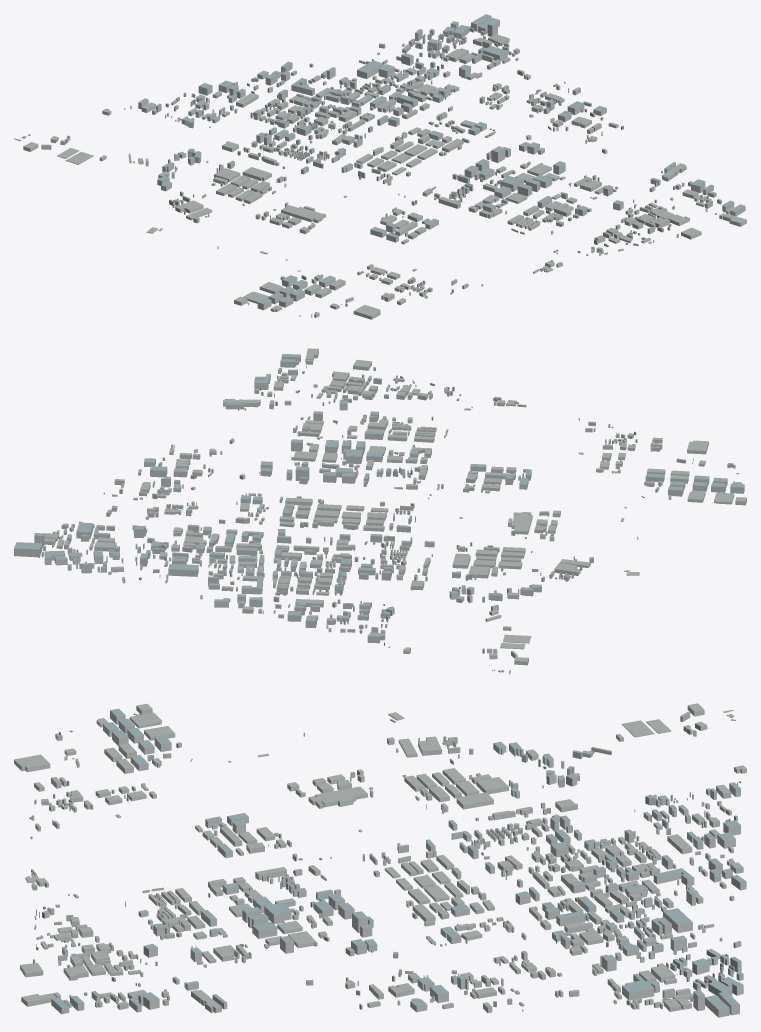
Rendered from far.glb.
3 renders of one model, top to bottom at view 1: azimuth 30°, elevation 25°; view 2: azimuth 150°, elevation 25°; view 3: azimuth 270°, elevation 25°, orthographic. The views are drawn at different scales.
Bounding box in the file's own units: 2168 × 49.51 × 2168.
